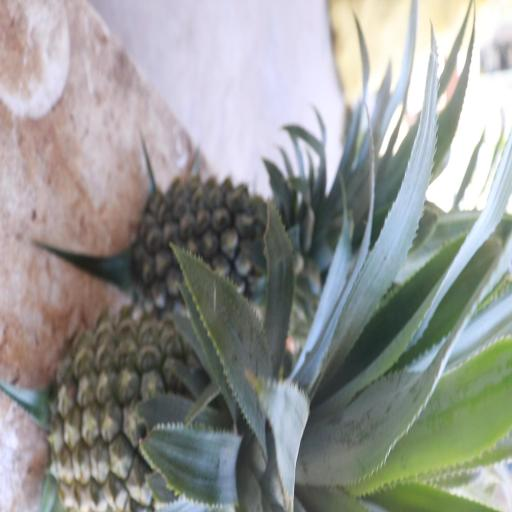------------------------------: (54, 315, 282, 512)
